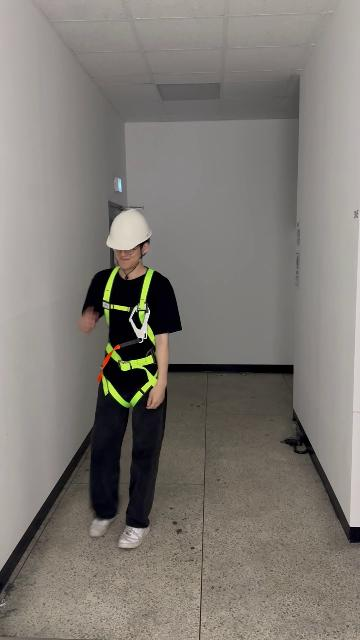helmet_worn: (104, 208, 153, 251)
shoe_not_worn: (117, 523, 150, 548), (89, 514, 116, 537)
vest_worn: (97, 269, 161, 406)
